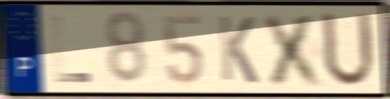5: (161, 13, 204, 87)
8: (102, 9, 153, 89)
K: (216, 13, 260, 87)
L: (50, 13, 94, 85)
U: (319, 9, 378, 91)
X: (260, 11, 328, 88)
